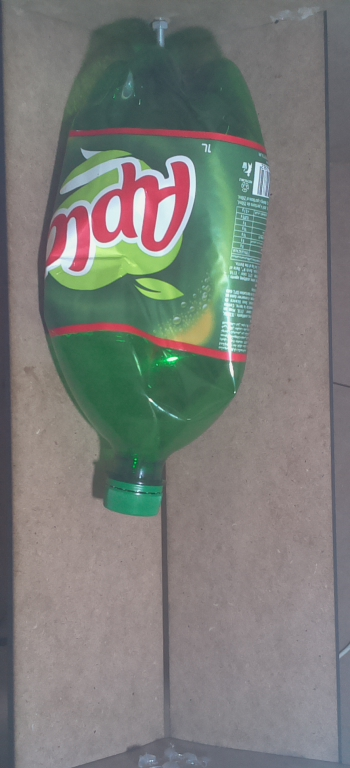Bouteille_1L: (37, 46, 278, 525)
